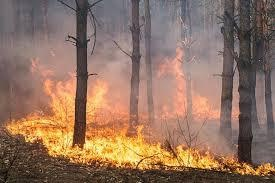fire: (0, 47, 237, 172)
